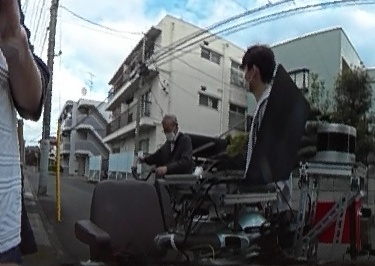person: (139, 109, 194, 179)
